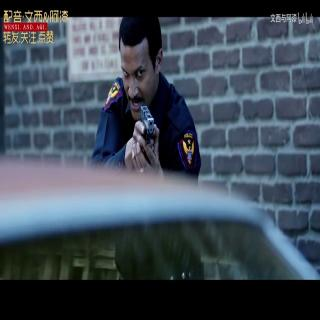gun: (136, 104, 158, 159)
